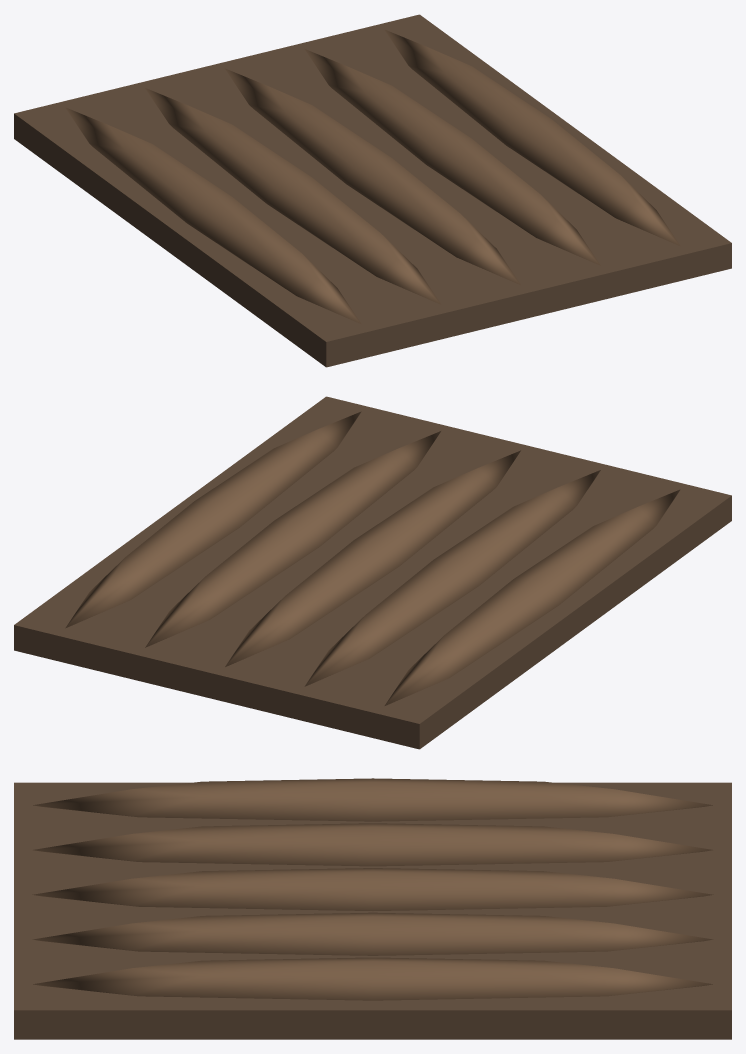
File: farm_soil.glb
3 views of the same model, one above another, from view 1: azimuth 30°, elevation 25°; view 2: azimuth 150°, elevation 25°; view 3: azimuth 270°, elevation 25° (orthographic). The views are drawn at different scales.
Parts seen in each view (by area): view 1: farm_soil; view 2: farm_soil; view 3: farm_soil.
Part boxes in pixels (bbox=[...]): farm_soil: bbox=[14, 14, 731, 367]; farm_soil: bbox=[14, 396, 731, 749]; farm_soil: bbox=[14, 778, 731, 1039].
Bounding box in the file's own units: 3 × 0.33 × 4.
